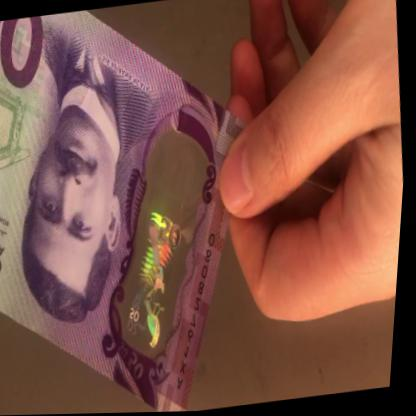50F: (108, 156, 208, 355)
